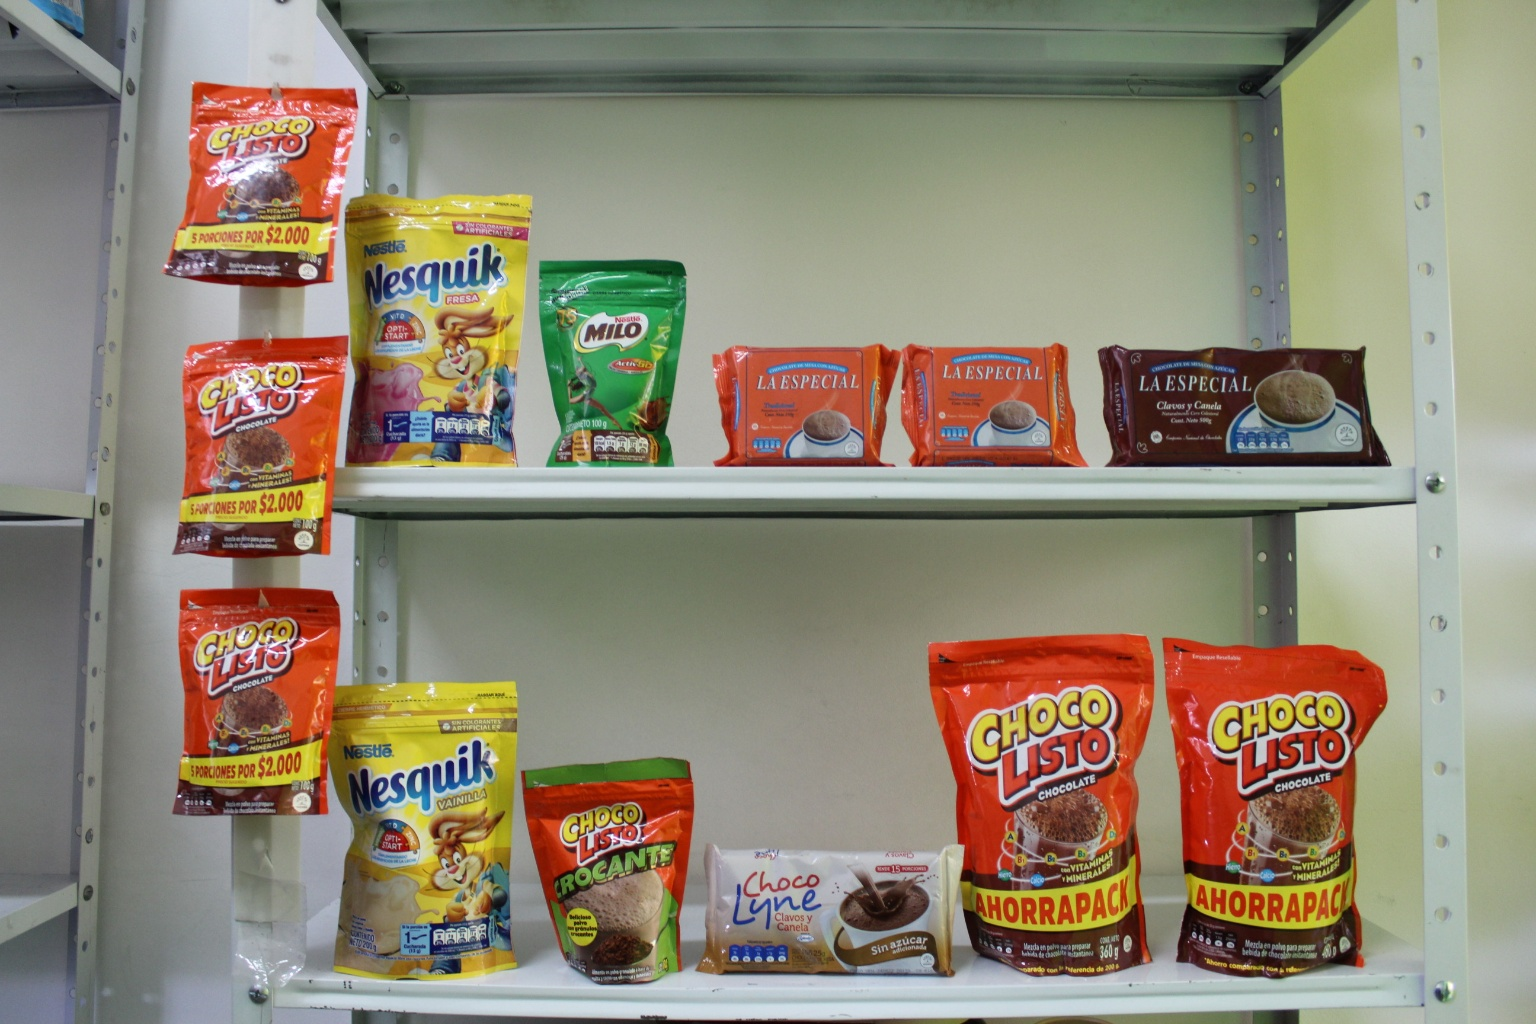COL0170102DYP10000: (517, 744, 699, 987)
COL0170103DYP10000: (171, 67, 357, 306)
COL0170103DYP36000: (926, 619, 1160, 975)
COL0170103DYP40000: (1163, 623, 1399, 973)
COL0170203DYP10000: (531, 233, 685, 459)
COL0170305DYP20000: (338, 171, 542, 459)
COL0170306DYP20000: (337, 667, 526, 981)
